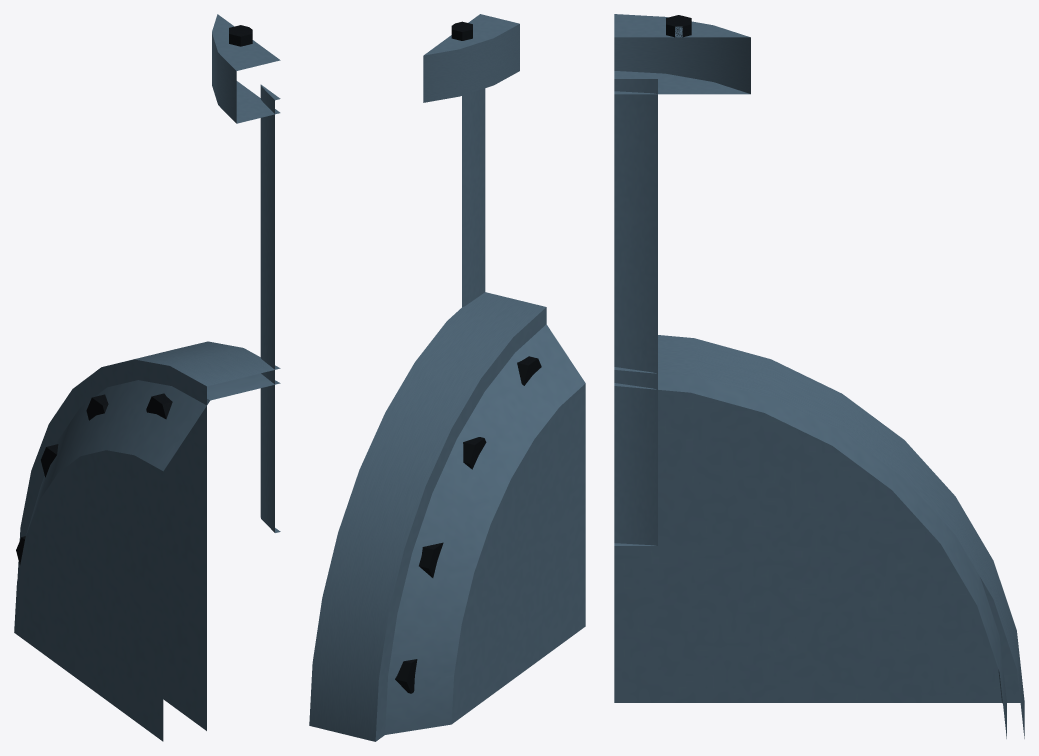
File: cell_12.obj
3 renders of one model, left to right at view 1: azimuth 30°, elevation 25°; view 2: azimuth 150°, elevation 25°; view 3: azimuth 270°, elevation 25°, orthographic. The views are drawn at different scales.
Visible parts, largest first — view 1: cell_12; view 2: cell_12; view 3: cell_12.
Boxes of the visible parts, <box> form: cell_12: <box>14,14,280,741</box>; cell_12: <box>309,14,585,741</box>; cell_12: <box>614,14,1024,738</box>.
Size of the model in its own units: 0.175 by 0.9443 by 0.4912.
